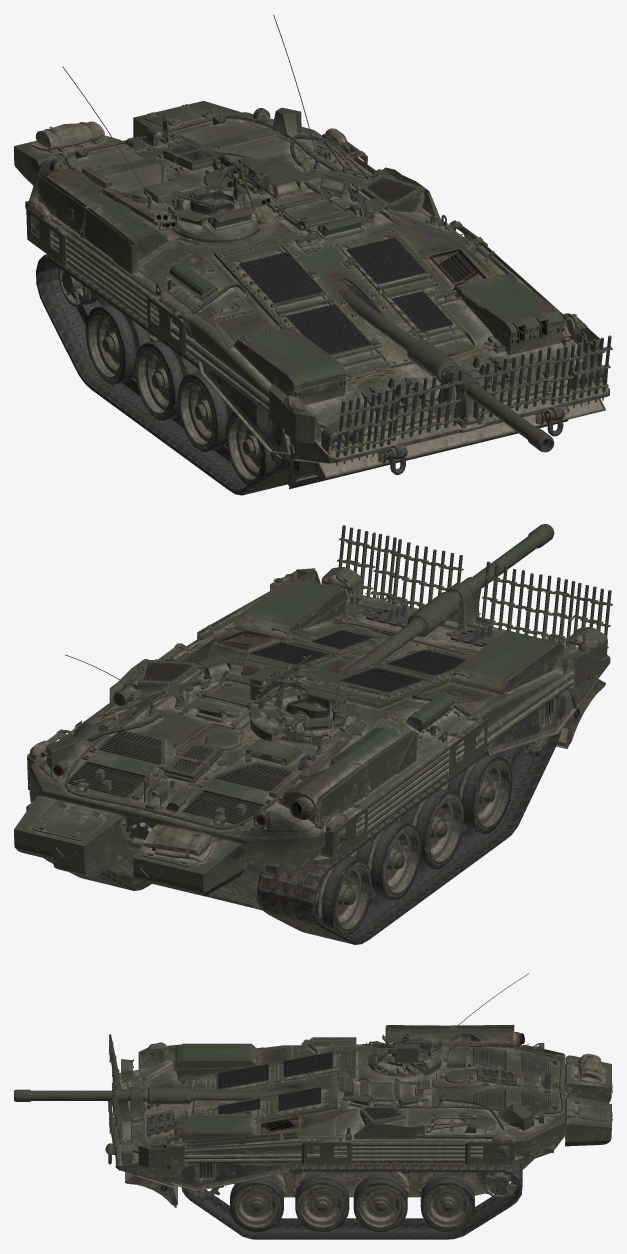
3 views of the same model, one above another, from view 1: azimuth 30°, elevation 25°; view 2: azimuth 150°, elevation 25°; view 3: azimuth 270°, elevation 25° (orthographic). The views are drawn at different scales.
Visible parts, largest first — view 1: hull, chassis, gun; view 2: hull, chassis, gun; view 3: hull, chassis, gun.
Part boxes in pixels (x1,y1,x2,y2): hull: (14,14,612,489); chassis: (36,254,295,495); gun: (334,279,554,452); hull: (14,525,612,910); chassis: (44,730,561,944); gun: (341,524,554,671); hull: (105,973,612,1207); chassis: (181,1162,522,1239); gun: (14,1087,293,1124).
Bounding box in the file's own units: 368 × 306 × 896.
